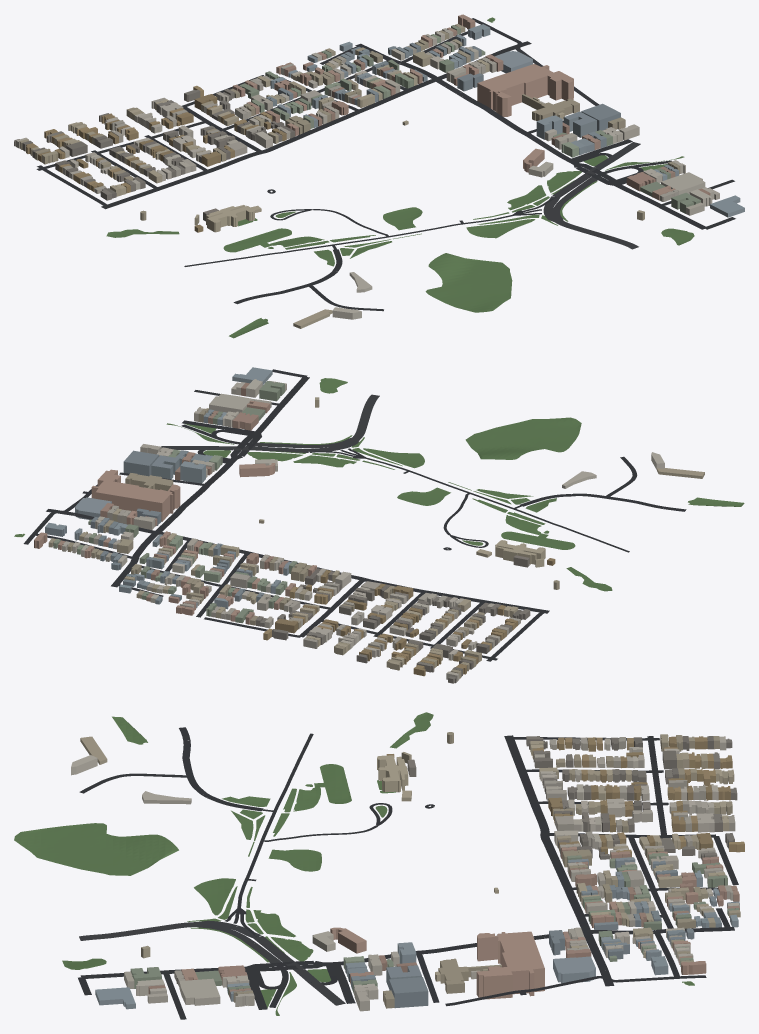
File: tile_7_13.glb
The picture shows the model from 3 angles, top to bottom: view 1: azimuth 30°, elevation 25°; view 2: azimuth 150°, elevation 25°; view 3: azimuth 270°, elevation 25°; orthographic projection. The views are drawn at different scales.
Parts seen in each view (by area): view 1: bld_7_13, road_7_13, grn_7_13; view 2: bld_7_13, road_7_13, grn_7_13; view 3: bld_7_13, road_7_13, grn_7_13.
Part boxes in pixels (x1=…): bld_7_13: x1=14, y1=14, x2=744, y2=328; road_7_13: x1=36, y1=18, x2=735, y2=311; grn_7_13: x1=106, y1=17, x2=694, y2=338; bld_7_13: x1=34, y1=367, x2=704, y2=683; road_7_13: x1=23, y1=369, x2=686, y2=661; grn_7_13: x1=14, y1=378, x2=744, y2=591; bld_7_13: x1=71, y1=732, x2=744, y2=1011; road_7_13: x1=78, y1=727, x2=738, y2=1019; grn_7_13: x1=14, y1=712, x2=694, y2=1015.
Bounding box in the file's own units: 901 × 52.11 × 893.
